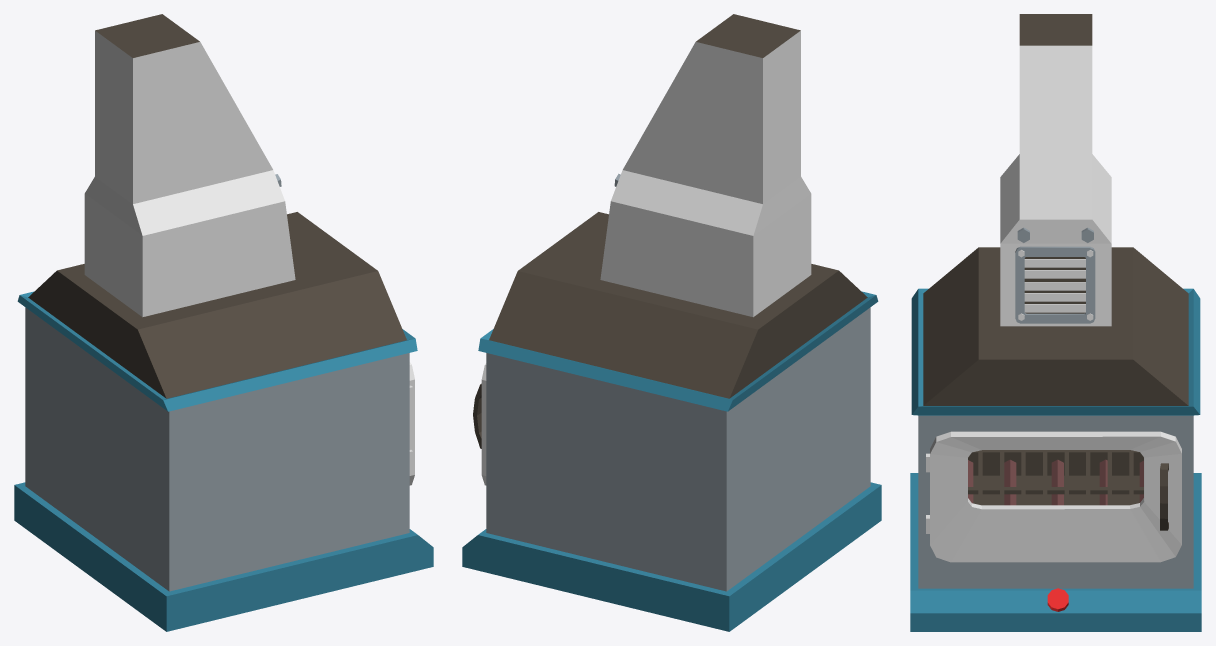
File: 3D_workstation_Oven.fbx
3 renders of one model, left to right at view 1: azimuth 30°, elevation 25°; view 2: azimuth 150°, elevation 25°; view 3: azimuth 270°, elevation 25°, orthographic. The views are drawn at different scales.
Parts seen in each view (by area): view 1: 3D_workstation_Oven_Box, 3D_workstation_Oven_Door; view 2: 3D_workstation_Oven_Box, 3D_workstation_Oven_Door; view 3: 3D_workstation_Oven_Box, 3D_workstation_Oven_Door, 3D_workstation_Oven_Grill.
Boxes of the visible parts, box(x1,y1,x2,y2) form: 3D_workstation_Oven_Box: box(14, 14, 433, 631); 3D_workstation_Oven_Door: box(409, 362, 414, 485); 3D_workstation_Oven_Box: box(462, 14, 881, 631); 3D_workstation_Oven_Door: box(473, 363, 486, 485); 3D_workstation_Oven_Box: box(910, 14, 1201, 631); 3D_workstation_Oven_Door: box(926, 431, 1181, 562); 3D_workstation_Oven_Grill: box(968, 450, 1143, 505).
Size of the model in its own units: 2.25 by 4.12 by 2.16.
